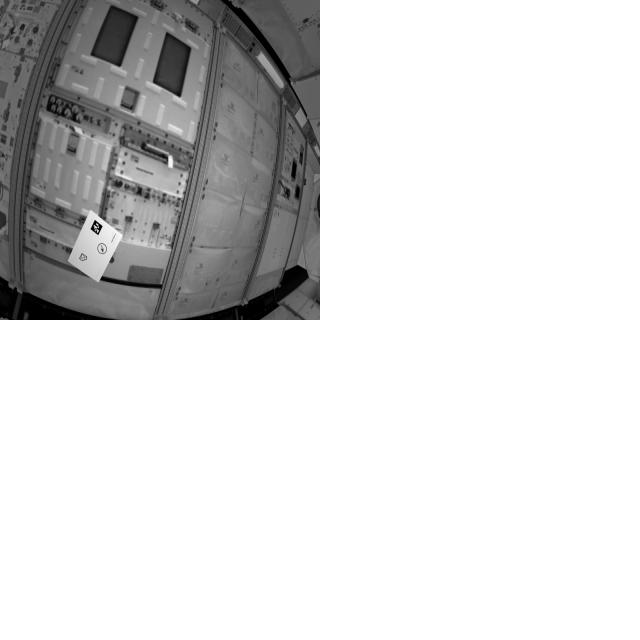compass: (97, 243, 109, 256)
diamond: (79, 253, 90, 264)
